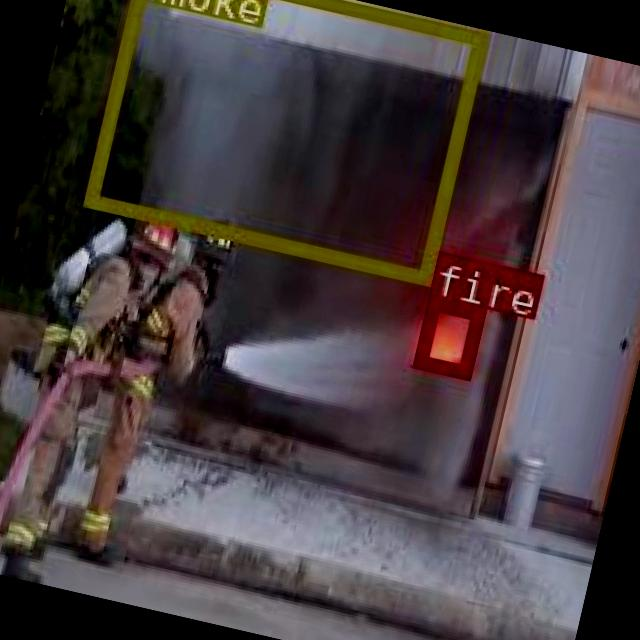fire: (410, 294, 482, 376)
smoke: (81, 0, 484, 281)
